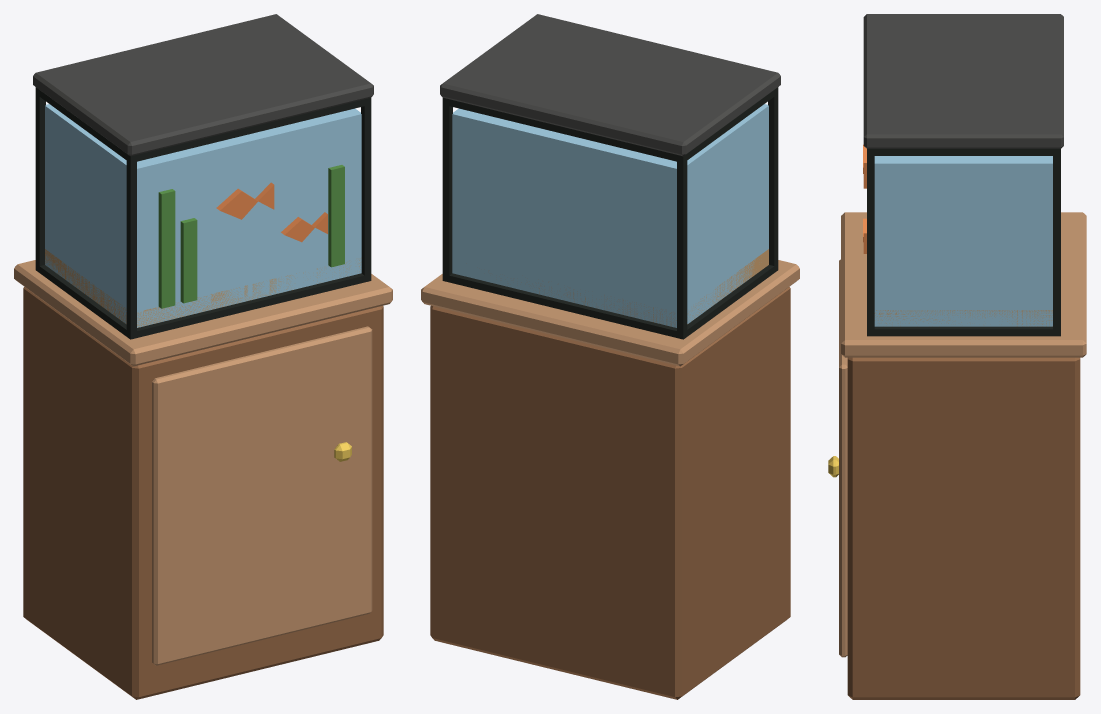
File: fish_tank.glb
3 views of the same model, side by side, from view 1: azimuth 30°, elevation 25°; view 2: azimuth 150°, elevation 25°; view 3: azimuth 270°, elevation 25° (orthographic). The views are drawn at different scales.
Visible parts, largest first — view 1: fish_tank; view 2: fish_tank; view 3: fish_tank.
Boxes of the visible parts, left/top/right/bottom form: fish_tank: left=14, top=14, right=392, bottom=699; fish_tank: left=421, top=14, right=799, bottom=699; fish_tank: left=828, top=14, right=1086, bottom=699.
Bounding box in the file's own units: 0.48 × 0.965 × 0.4.
Materials: 1 (1 with a texture image).
